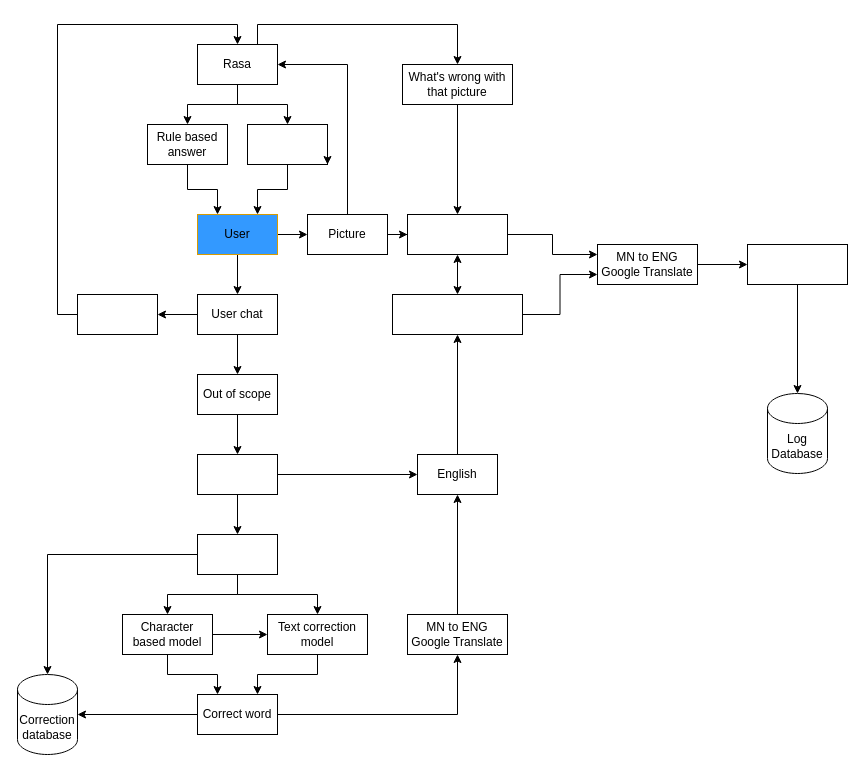
Image size: 865x772. Some labels were removed from this diagram. The shapes that lost their labels are listed below. From the top down, each one's box as (x1, y1, x2, y2) in pixels, then its label:
(246, 124, 328, 164): Opening message
(406, 214, 508, 254): GPT4 Vision
(746, 244, 848, 284): Last output
(76, 294, 158, 334): Rule based
(392, 294, 522, 334): GPT 3.5 Fine tuned MongolNET
(196, 454, 278, 494): Mongolia or English
(196, 534, 278, 574): Mongolia
